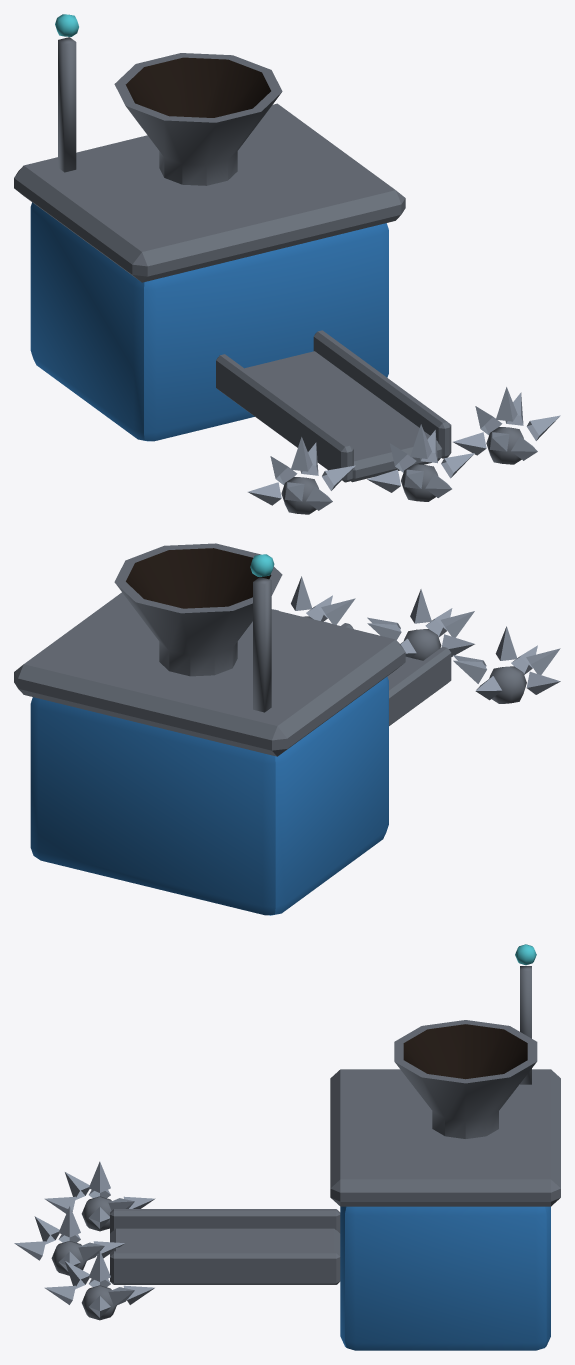
The picture shows the model from 3 angles, top to bottom: view 1: azimuth 30°, elevation 25°; view 2: azimuth 150°, elevation 25°; view 3: azimuth 270°, elevation 25°; orthographic projection. The views are drawn at different scales.
Parts seen in each view (by area): view 1: espinhos_0_base; view 2: espinhos_0_base; view 3: espinhos_0_base.
Part boxes in pixels (<box>): espinhos_0_base: <box>14,14,560,514</box>; espinhos_0_base: <box>14,543,560,915</box>; espinhos_0_base: <box>14,944,560,1350</box>.
Bounding box in the file's own units: 0.6427 × 0.6918 × 1.09.
